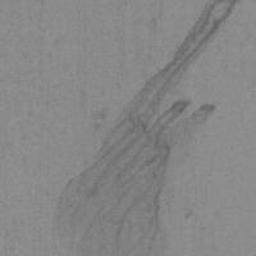Water spot: (54, 0, 242, 256)
